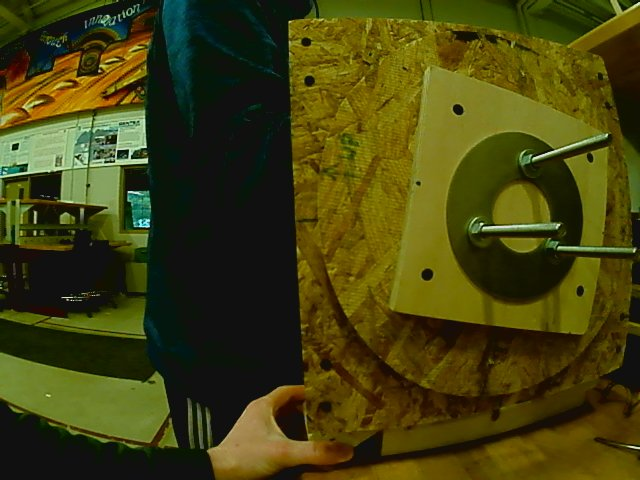bolt: (466, 214, 497, 255), (515, 146, 544, 183), (544, 232, 568, 270)
